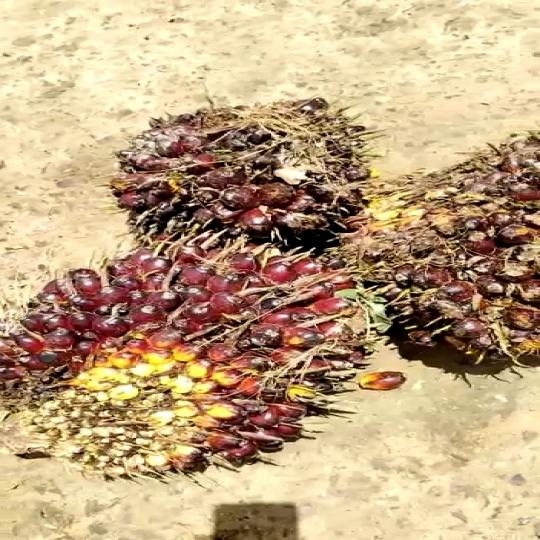kurang masak: (3, 243, 372, 490), (111, 95, 383, 268), (370, 123, 540, 387)
